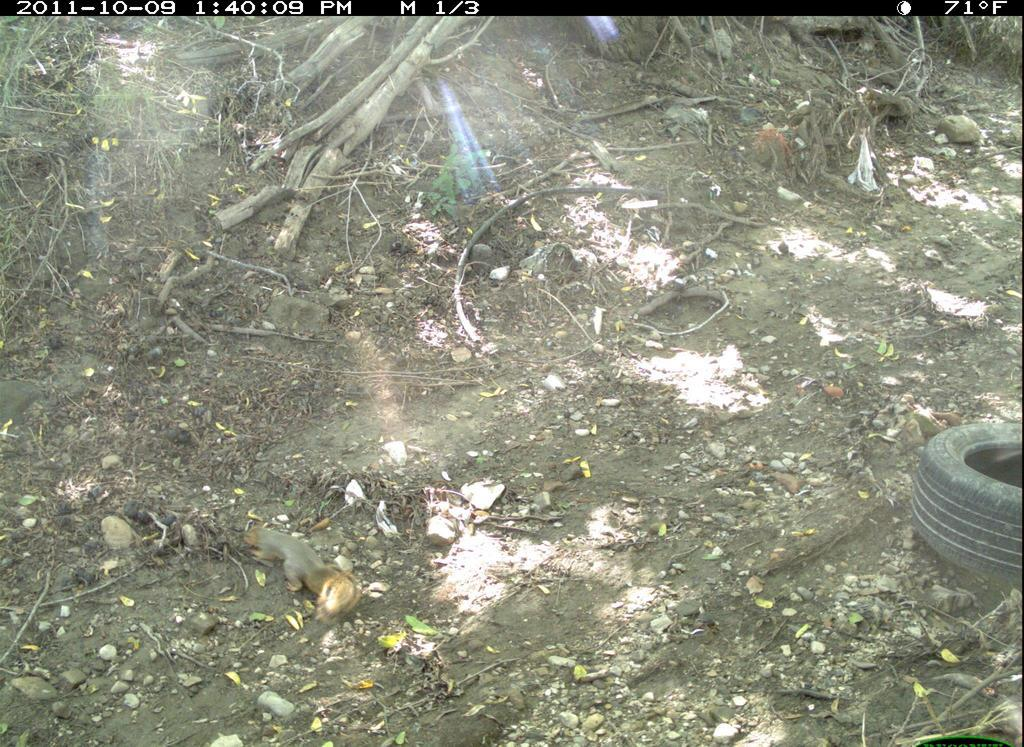squirrel: (241, 511, 368, 629)
